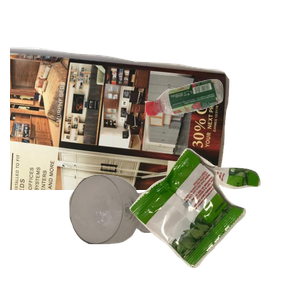glass: (67, 172, 229, 300)
paper: (10, 44, 232, 224)
plastic: (142, 77, 300, 186)
trash: (127, 146, 300, 300)
